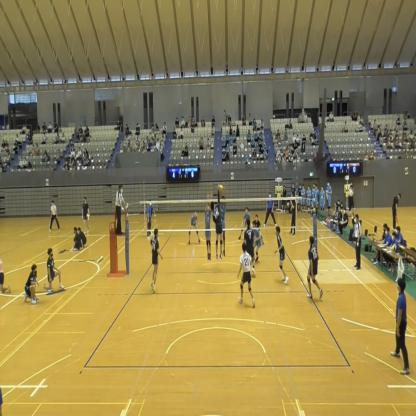spike: (209, 180, 227, 266)
